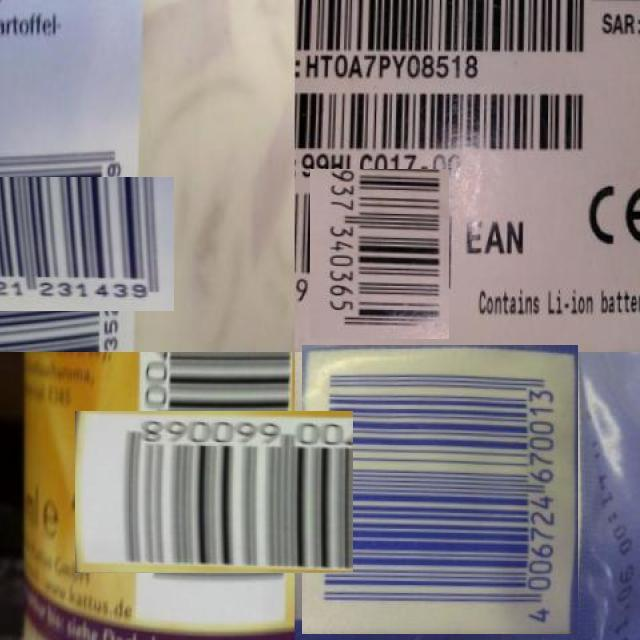Barcode: (298, 348, 582, 632), (104, 381, 324, 602), (0, 157, 155, 332), (302, 176, 458, 332)
